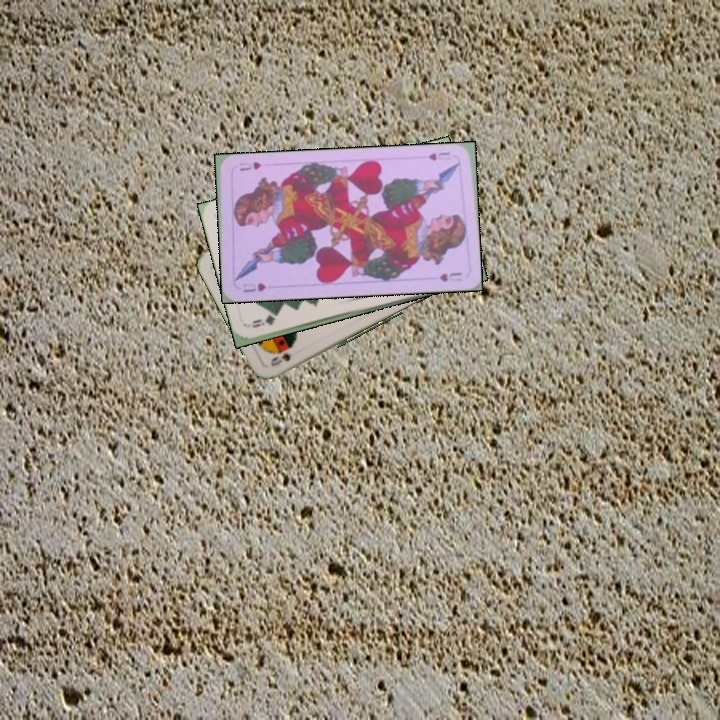G9: (248, 313, 278, 330)
HU: (239, 279, 268, 295), (424, 148, 453, 163)
SO: (266, 349, 294, 369)
